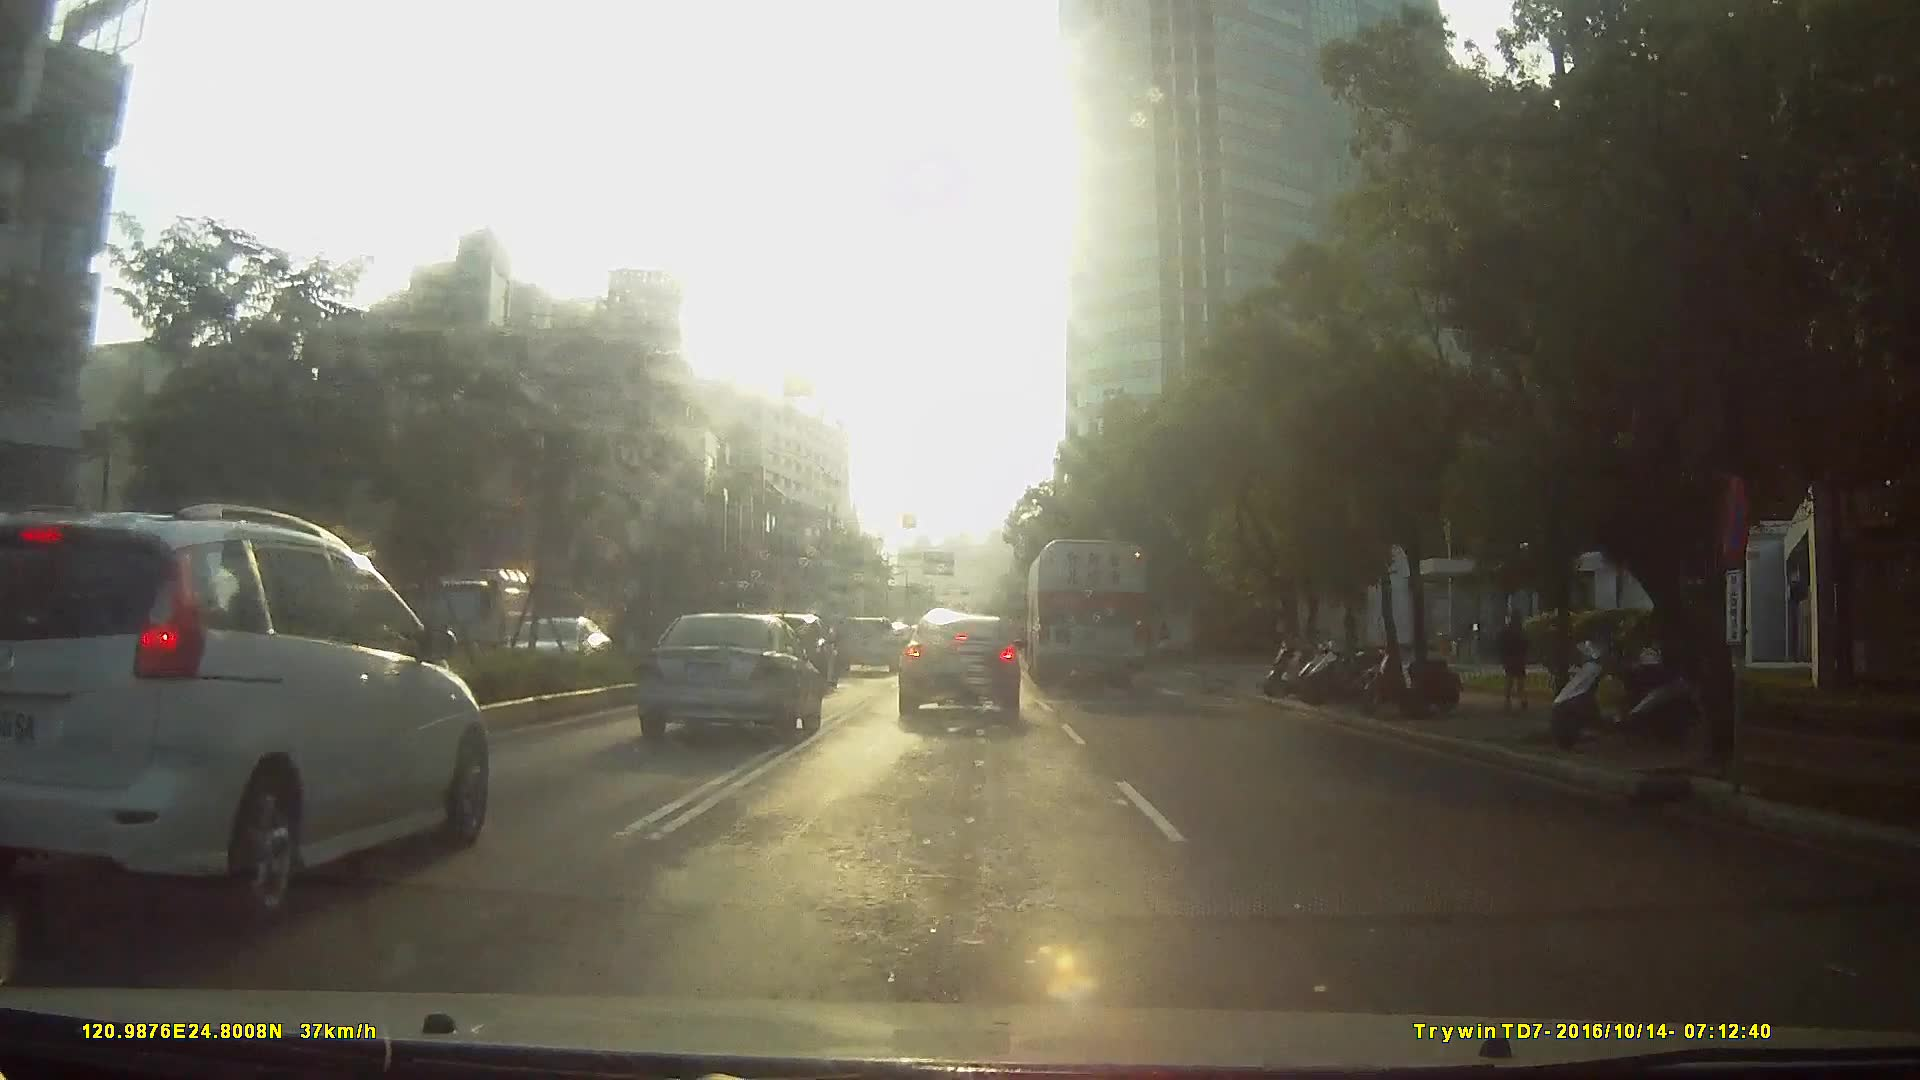pedestrian: (1495, 608, 1537, 711)
vehicle: (21, 485, 489, 939), (250, 556, 684, 868), (625, 606, 817, 742), (1022, 533, 1148, 690), (894, 606, 1023, 720), (386, 558, 514, 660), (505, 613, 615, 681), (829, 612, 897, 671)
